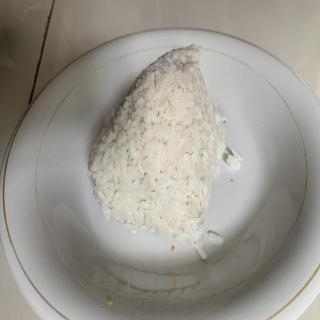Nasi: (89, 45, 226, 242)
